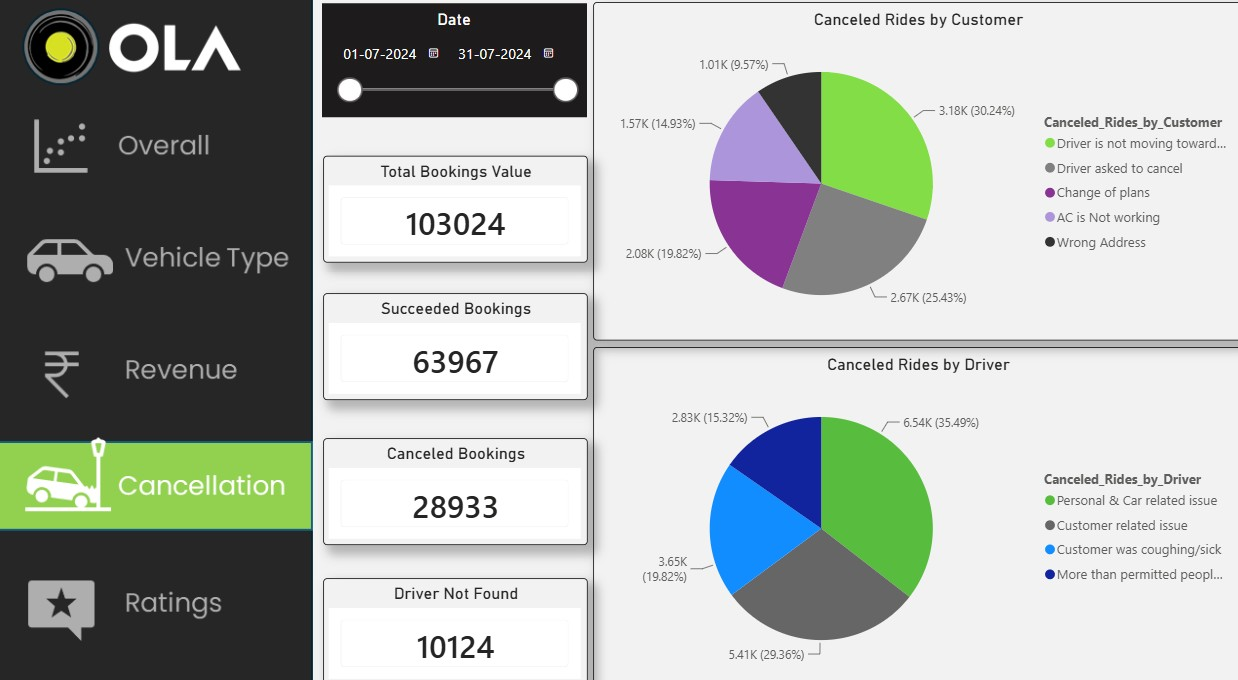

This screenshot's page, from the dashboard's own definition file:
{"tool":"powerbi","page":{"name":"Cancellation","canvas":[1280,720],"ordinal":3},"visuals":[{"type":"actionButton","box":[0,576.7,323.9,99.4],"z":0},{"type":"pieChart","title":"Canceled Rides by Customer","fields":{"Category":["ola data set.Canceled_Rides_by_Customer"],"Y":["CountNonNull(ola data set.Canceled_Rides_by_Customer)"]},"box":[612,5.5,665.5,347.2],"z":1000},{"type":"pieChart","title":"Canceled Rides by Driver","fields":{"Category":["ola data set.Canceled_Rides_by_Driver"],"Y":["CountNonNull(ola data set.Canceled_Rides_by_Driver)"]},"box":[612,359.5,665.5,347.2],"z":2000},{"type":"slicer","title":"Date","fields":{"Values":["ola data set.Date"]},"box":[333.4,6.1,271,115.7],"z":3000},{"type":"cardVisual","title":"Total Bookings Value","fields":{"Data":["CountNonNull(ola data set.Booking_ID)"]},"box":[334.9,162.9,271,109.6],"z":4000},{"type":"cardVisual","title":"Succeeded Bookings","fields":{"Data":["CountNonNull(ola data set.Booking_ID)"]},"box":[334.9,304.5,271,109.6],"z":5000},{"type":"cardVisual","title":"Canceled Bookings","fields":{"Data":["CountNonNull(ola data set.Booking_ID)"]},"box":[334.9,452.1,271,109.6],"z":6000},{"type":"cardVisual","title":"Driver Not Found","fields":{"Data":["CountNonNull(ola data set.Booking_ID)"]},"box":[334.9,596.8,271,109.6],"z":7002}]}

Visuals, with their boxes on the page's 1280x720 design canvas (x1, y1, x2, y2). These are canvas units, not pixel positions in the 1238x680 screenshot, which may show the page scaled, cropped or inside an application window:
actionButton: <bbox>0, 577, 324, 676</bbox>
"Canceled Rides by Customer" pieChart: <bbox>612, 6, 1278, 353</bbox>
"Canceled Rides by Driver" pieChart: <bbox>612, 360, 1278, 707</bbox>
"Date" slicer: <bbox>333, 6, 604, 122</bbox>
"Total Bookings Value" cardVisual: <bbox>335, 163, 606, 272</bbox>
"Succeeded Bookings" cardVisual: <bbox>335, 304, 606, 414</bbox>
"Canceled Bookings" cardVisual: <bbox>335, 452, 606, 562</bbox>
"Driver Not Found" cardVisual: <bbox>335, 597, 606, 706</bbox>
